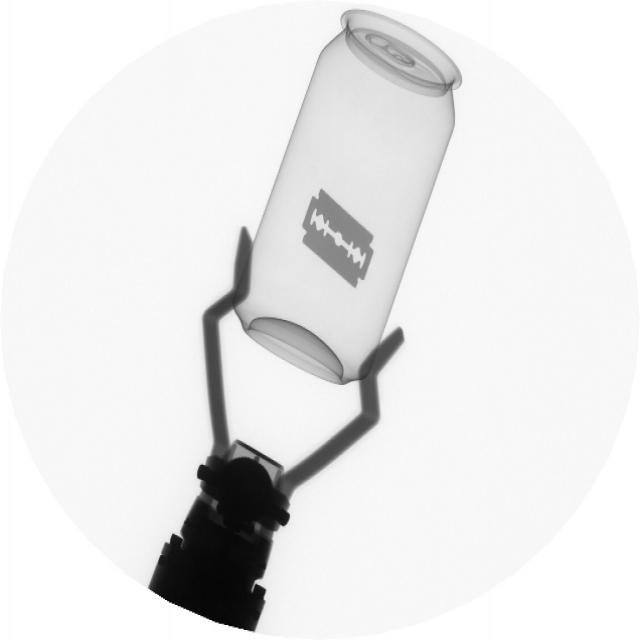BLADE: (296, 183, 383, 301)
